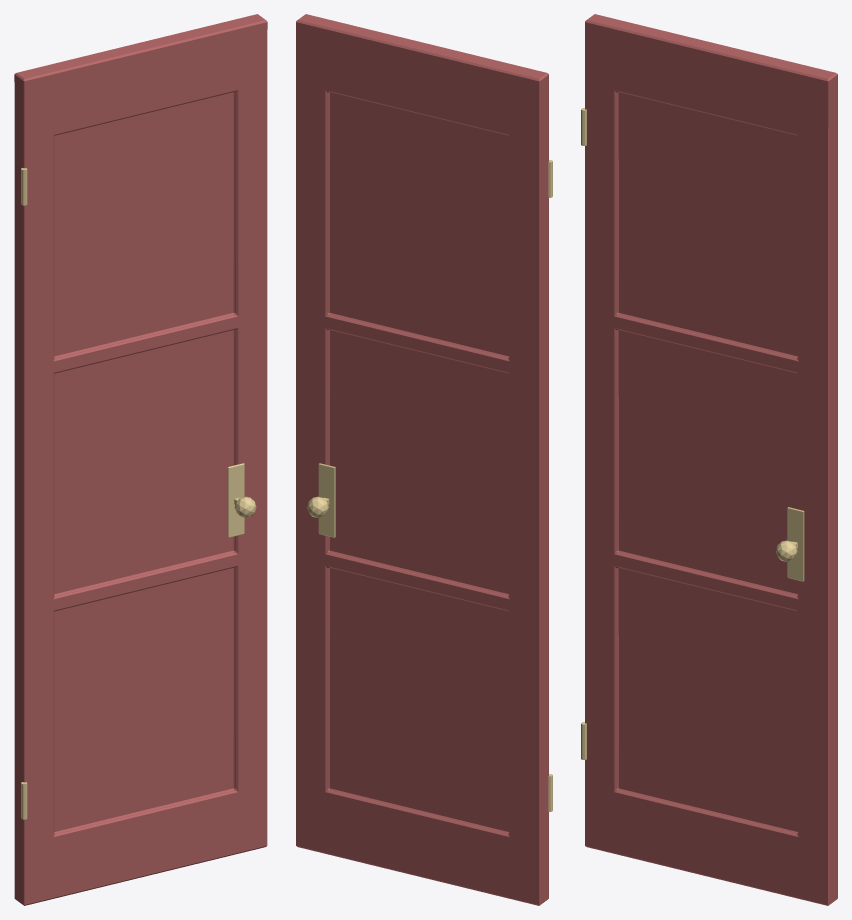
File: door_leaf_front.glb
The picture shows the model from 3 angles, left to right: view 1: azimuth 30°, elevation 25°; view 2: azimuth 150°, elevation 25°; view 3: azimuth 330°, elevation 25°; orthographic projection.
Parts seen in each view (by area): view 1: door_leaf_front_door, door_leaf_front_brass; view 2: door_leaf_front_door, door_leaf_front_brass; view 3: door_leaf_front_door, door_leaf_front_brass.
Boxes of the visible parts, bbox=[...] form: door_leaf_front_door: bbox=[14, 14, 267, 905]; door_leaf_front_brass: bbox=[21, 168, 256, 819]; door_leaf_front_door: bbox=[296, 14, 548, 905]; door_leaf_front_brass: bbox=[307, 160, 552, 811]; door_leaf_front_door: bbox=[585, 14, 837, 905]; door_leaf_front_brass: bbox=[581, 108, 804, 759].
Bounding box in the file's own units: 0.728 × 2.33 × 0.206.
